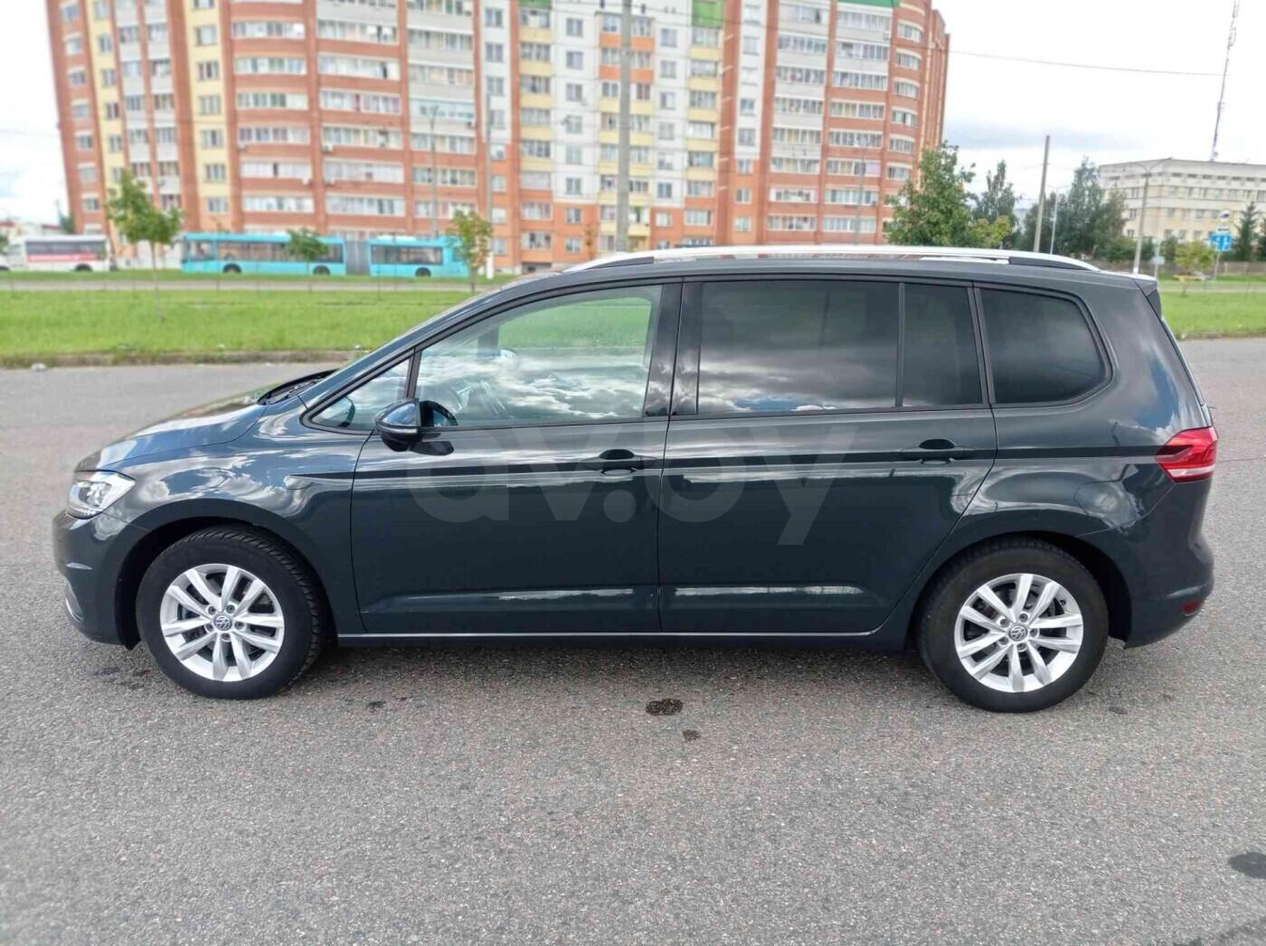Touran_2015: (48, 241, 1226, 714)
